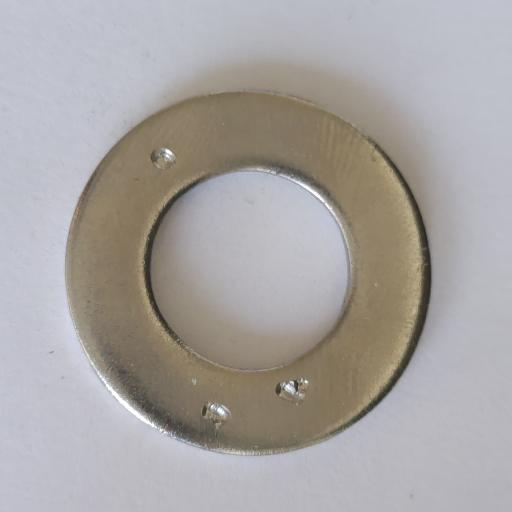circular_cavity: (201, 400, 233, 440), (275, 377, 307, 403), (149, 146, 178, 172), (294, 376, 311, 391)
